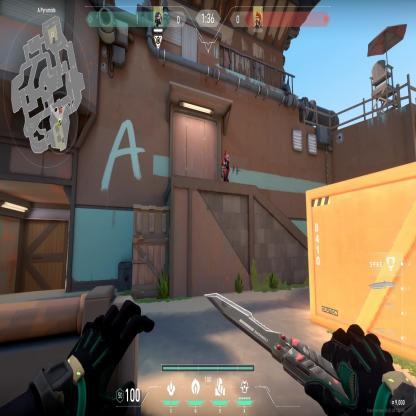enemy: (219, 147, 230, 182)
